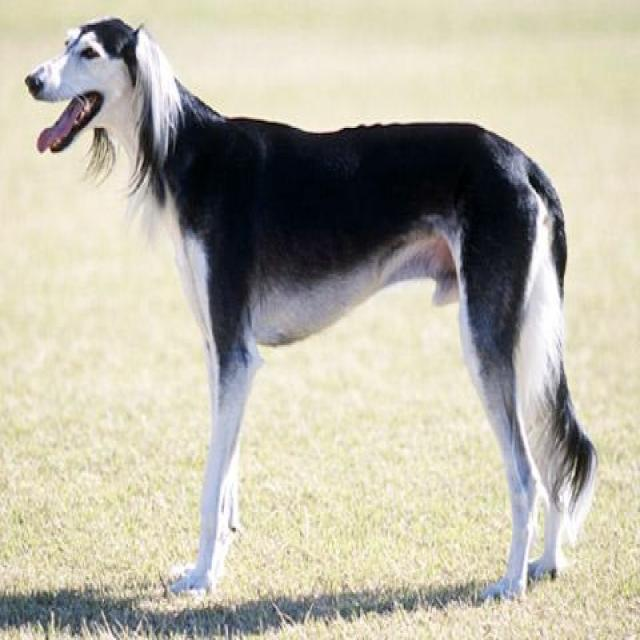saluki: (20, 10, 604, 602)
